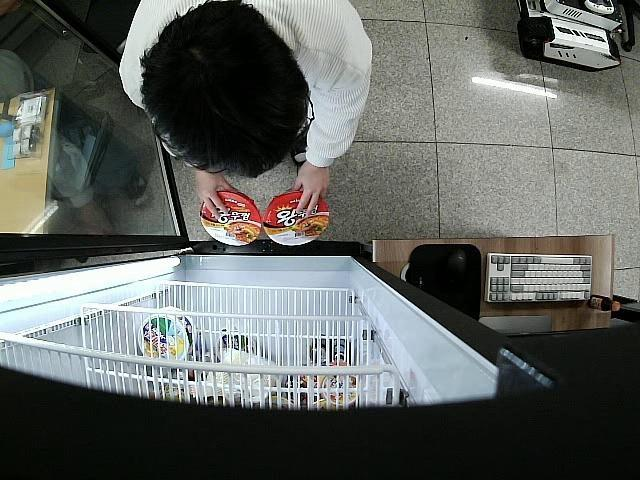10_wangTtukkeong: (262, 188, 332, 246), (199, 190, 260, 247)
